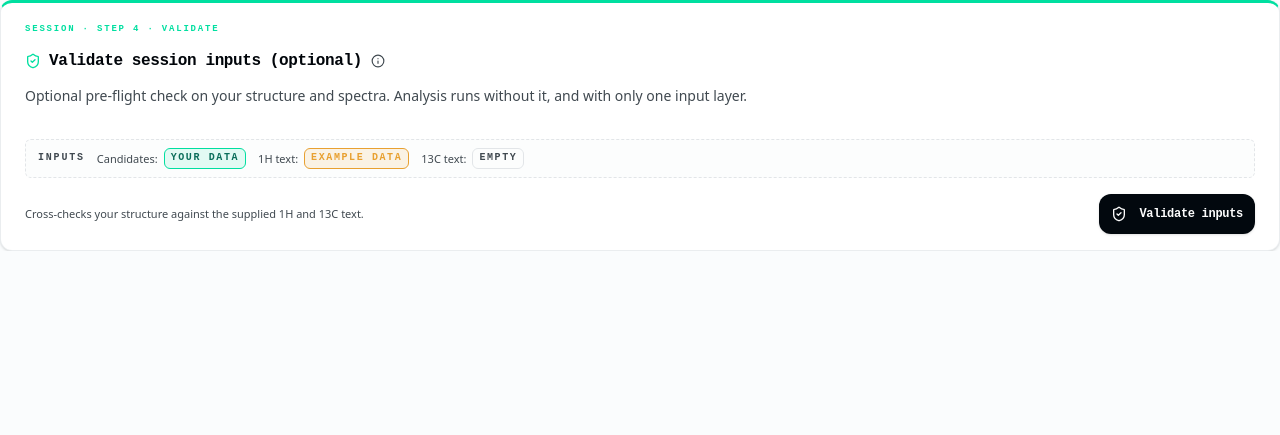
Test: SessionValidateCard — backend roundtrip › renders the 'analysis ready' state on a fully-matching response
The image size is (1280, 435).
Click the button with test id "session-validate-button".
click(1177, 214)  # box x1=1100 y1=194 x2=1255 y2=234
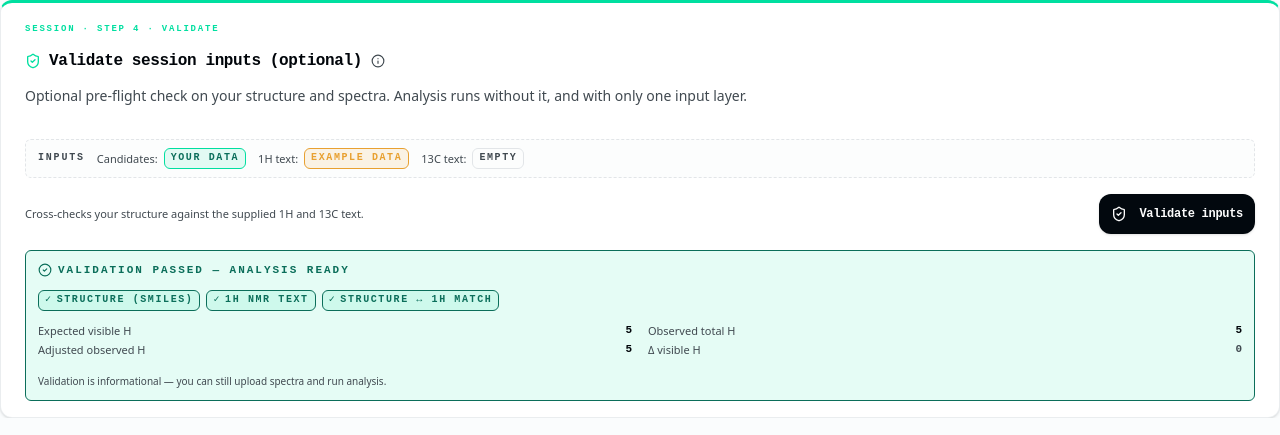
Now the text "Validation passed — analysis ready" is shown, box x1=38 y1=263 x2=350 y2=277
